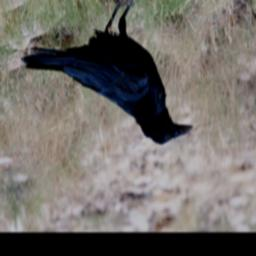Crow: (20, 0, 194, 146)
